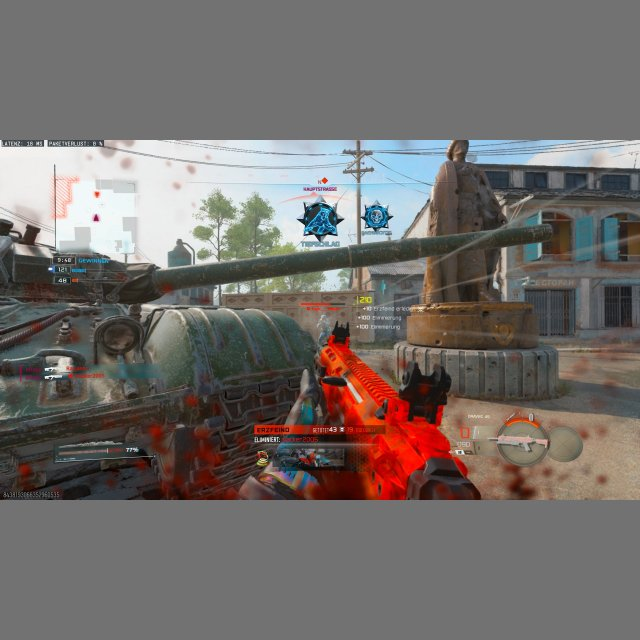head: (329, 324, 351, 348), (321, 314, 326, 320)
player: (300, 199, 343, 243), (317, 314, 332, 347)
